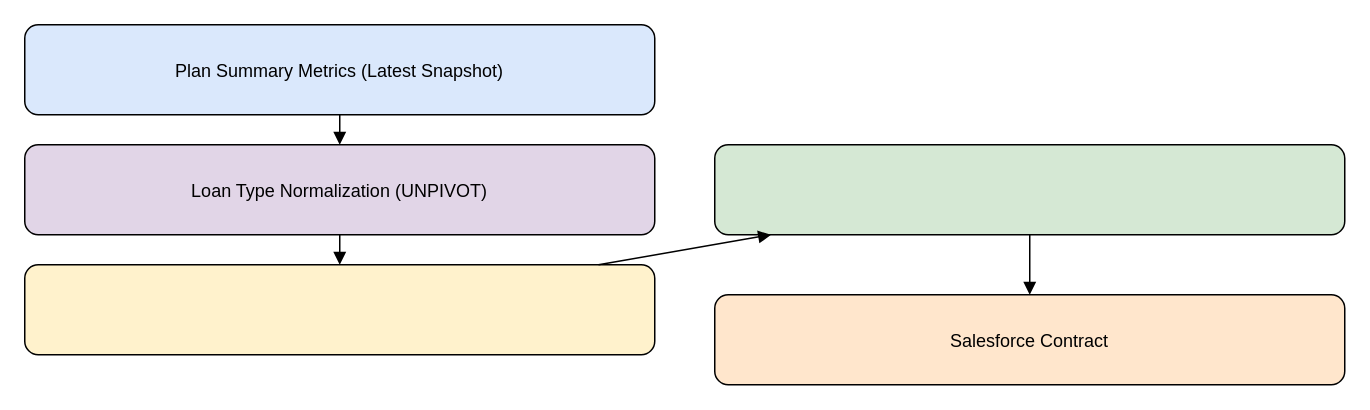
This 1370x410 diagram has some shape labels left out. Each missing label, with the centre of its shape:
Employer Group Aggregation: point 339,309
Outbound Loan Type View: point 1029,189
